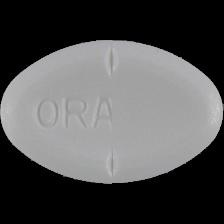57844-198: (0, 0, 224, 224)
